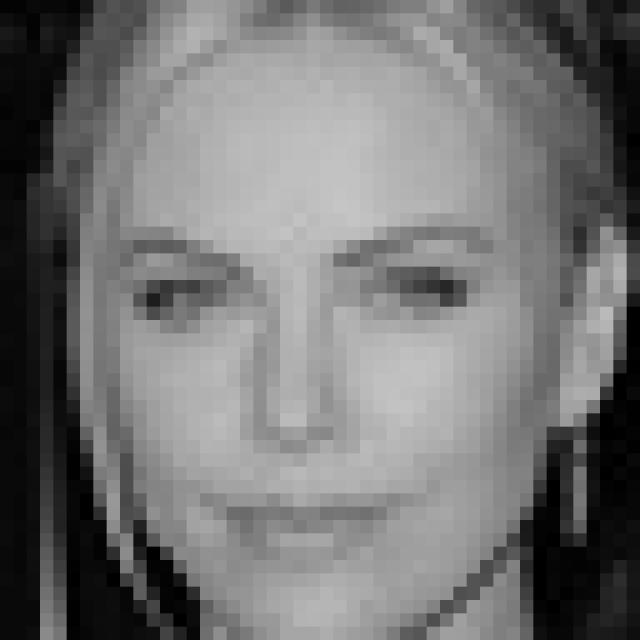neutral: (116, 210, 514, 571)
